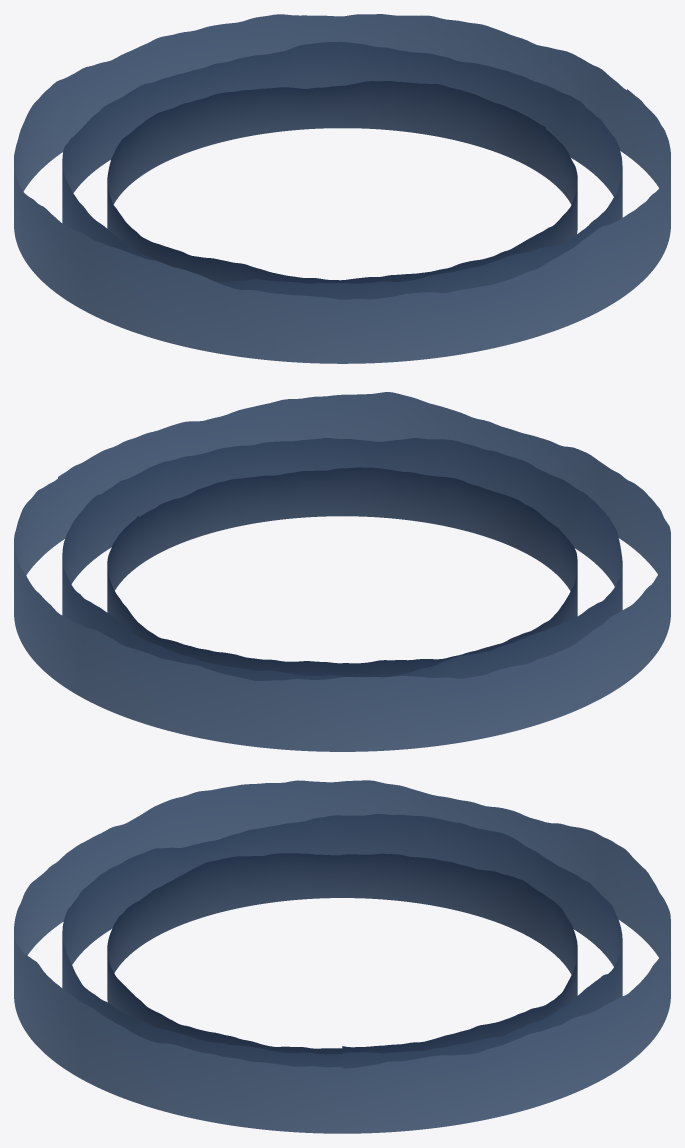
Rendered from plugin-mvnh7cum-tplp.glb.
3 renders of one model, top to bottom at view 1: azimuth 30°, elevation 25°; view 2: azimuth 150°, elevation 25°; view 3: azimuth 270°, elevation 25°, orthographic.
Visible parts, largest first — view 1: blue-ridge-layers; view 2: blue-ridge-layers; view 3: blue-ridge-layers.
Part boxes in pixels (left/top/right/bottom): blue-ridge-layers: left=14, top=14, right=670, bottom=363; blue-ridge-layers: left=14, top=392, right=670, bottom=751; blue-ridge-layers: left=14, top=780, right=670, bottom=1133.
Bounding box in the file's own units: 950 × 137 × 950.
